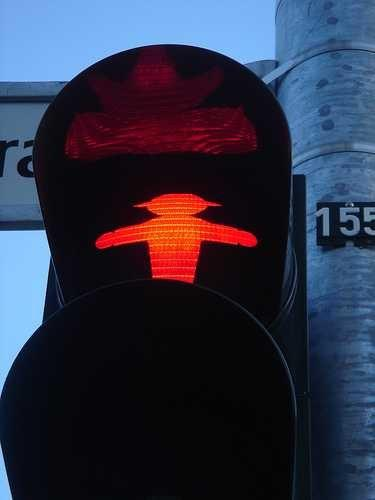red: (3, 25, 312, 500), (31, 46, 307, 312)
